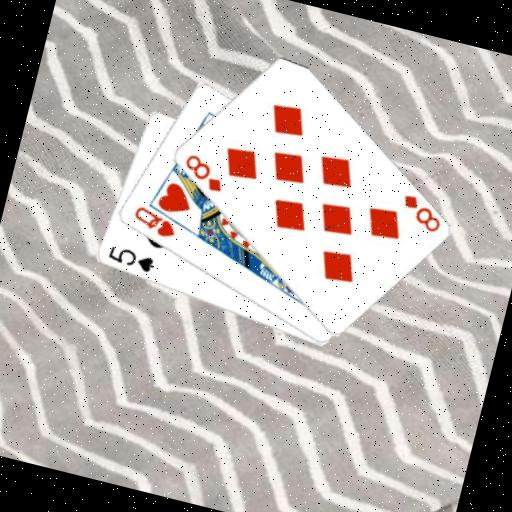5S: (103, 241, 158, 276)
8D: (176, 149, 230, 196), (394, 190, 447, 236)
QH: (127, 202, 181, 242)
